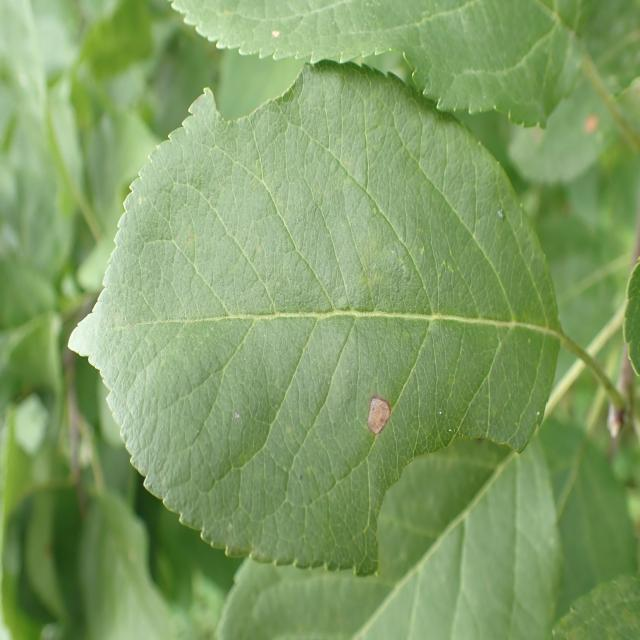Black Rot: (345, 386, 414, 448)
